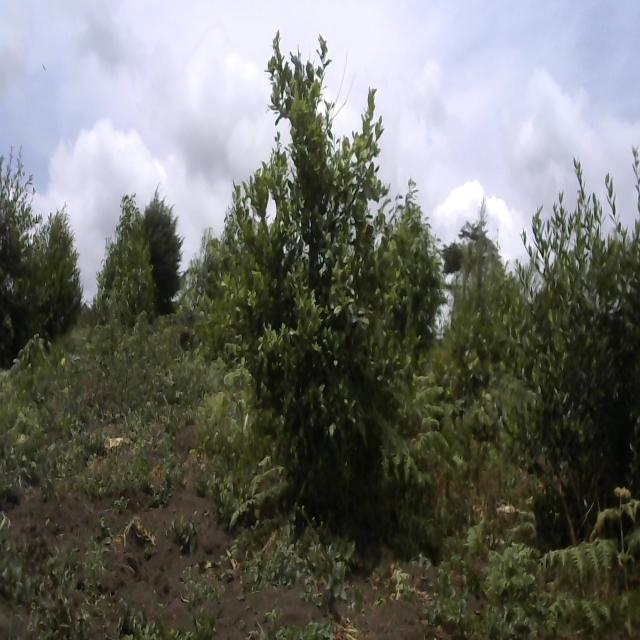cedrus: (145, 188, 186, 320), (41, 214, 86, 326)
